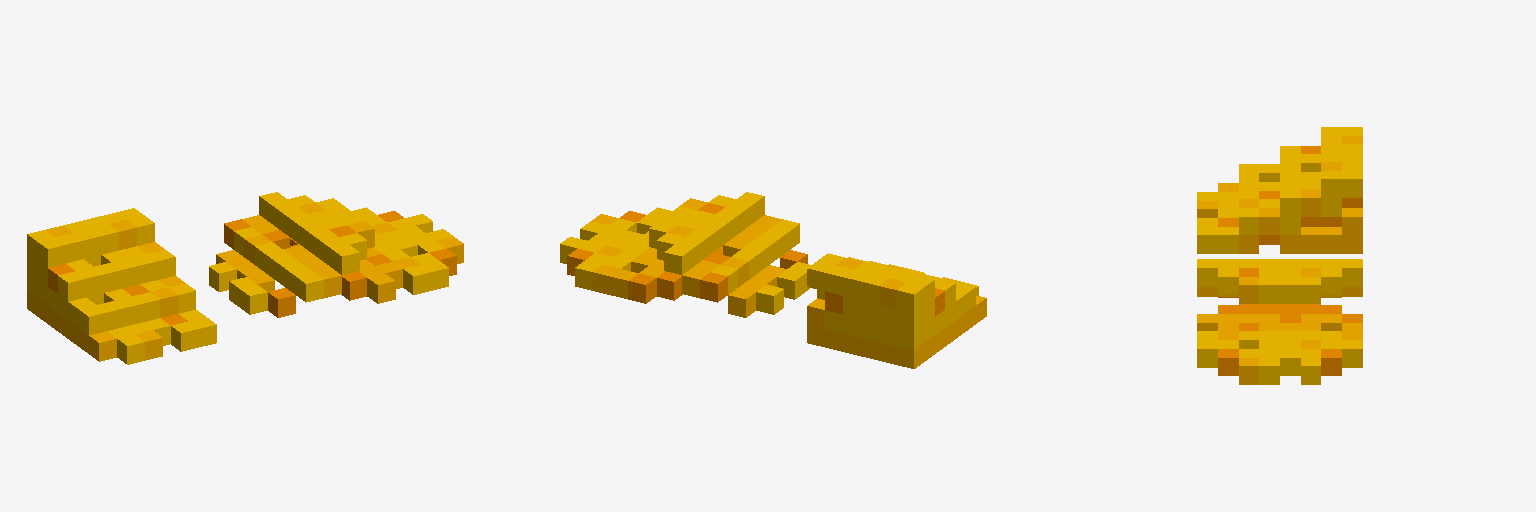
3 renders of one model, left to right at view 1: azimuth 30°, elevation 25°; view 2: azimuth 150°, elevation 25°; view 3: azimuth 270°, elevation 25°, orthographic.
Parts seen in each view (by area): view 1: object 1; view 2: object 1; view 3: object 1.
Part boxes in pixels (x1,y1,x2,y2): object 1: (27, 192, 463, 364); object 1: (560, 192, 986, 368); object 1: (1197, 127, 1362, 384).
Size of the model in its own units: 2.1 by 0.4 by 0.8.
1 materials, 1 textured.